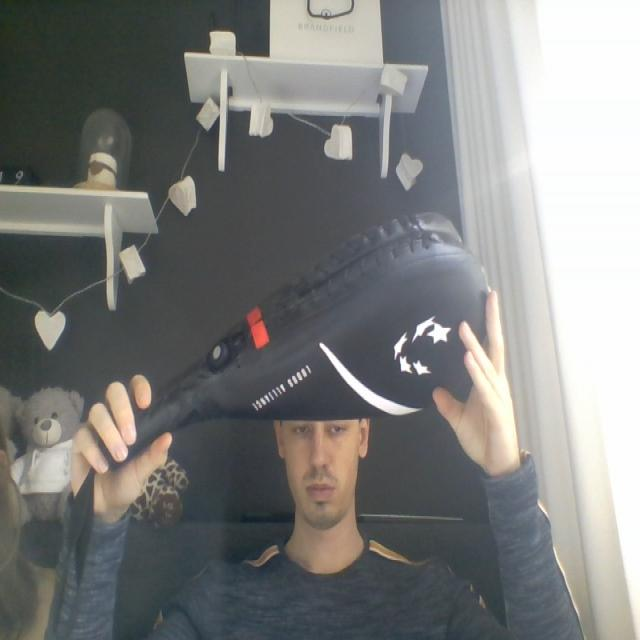paddle: (153, 208, 495, 426)
